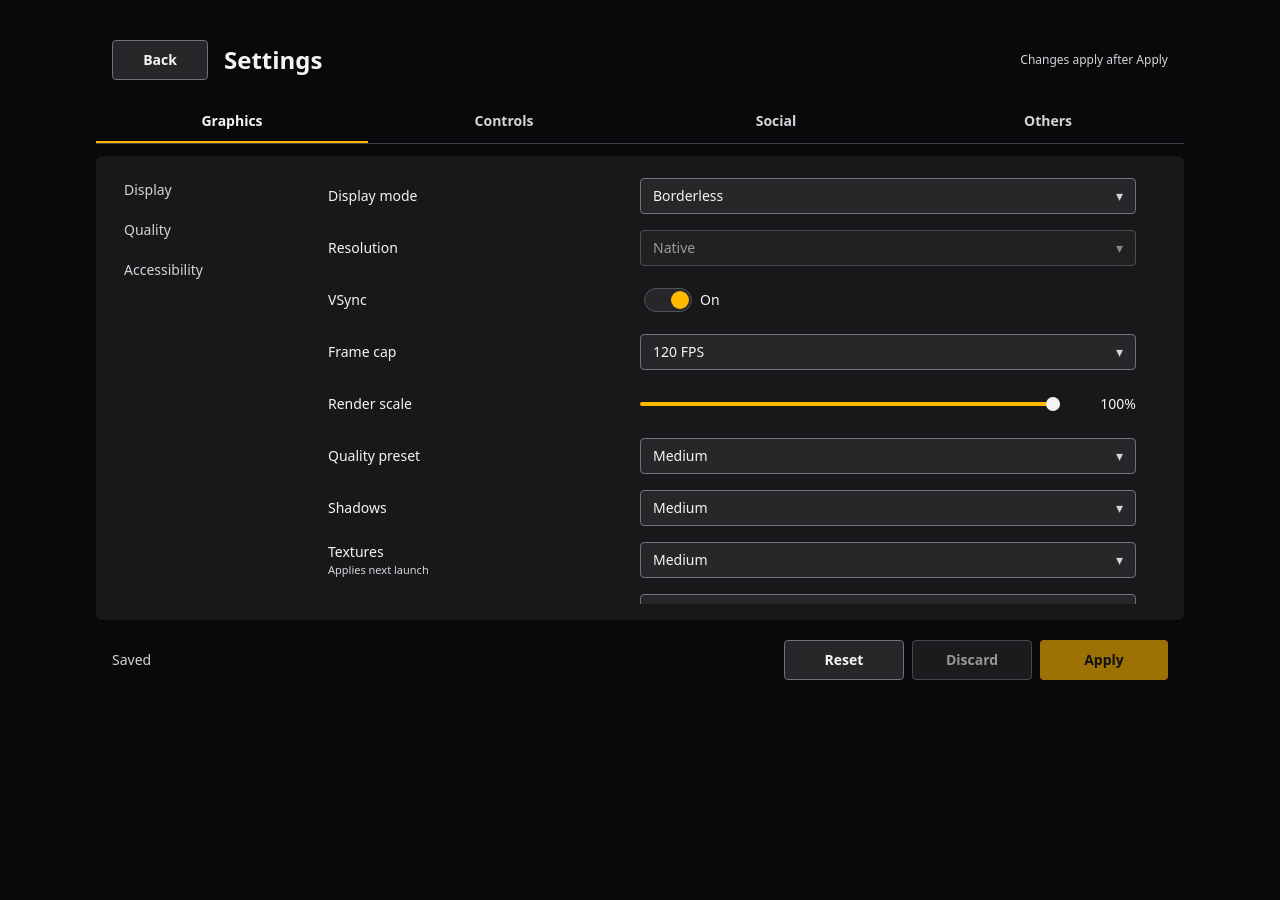
SettingsScreen › Back with a dirty draft asks first
The width and height of the screenshot is (1280, 900).
Later steps or results of the test are not shown.
Click the switch named "VSync" at (686, 300), box [640, 282, 732, 318]
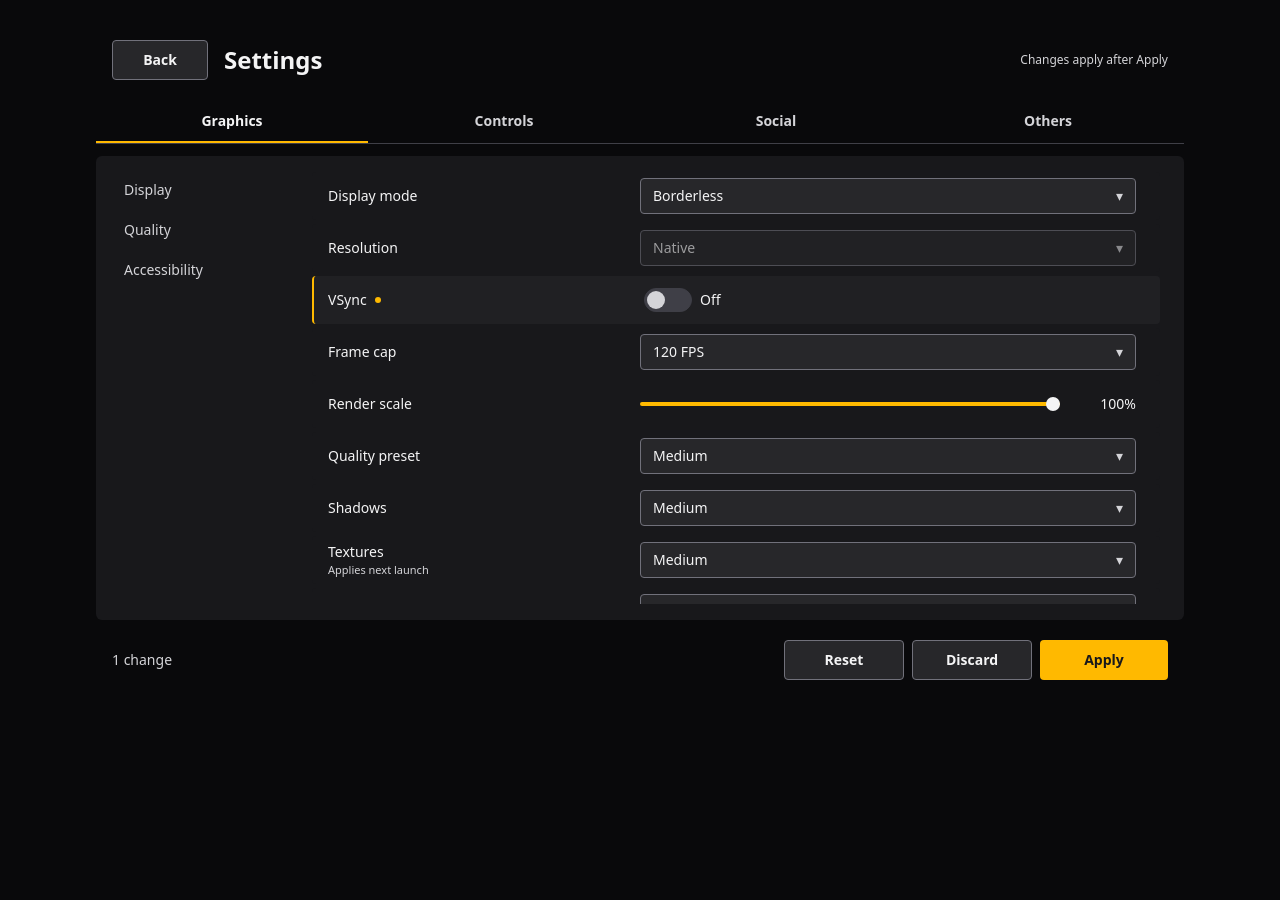
Click the button "Back" at (160, 60), box [112, 40, 208, 80]
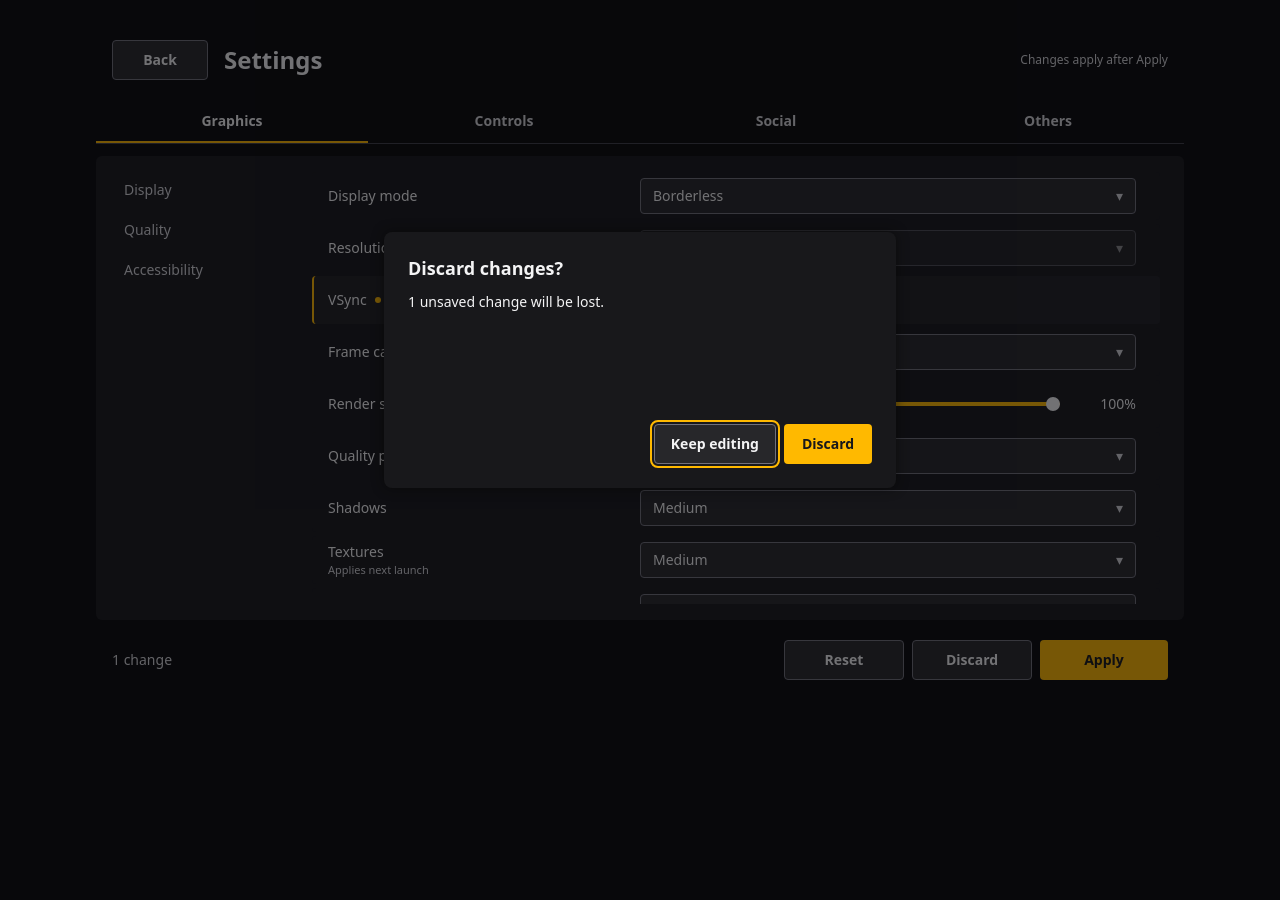
Click the button "Keep editing" at (715, 444), box [654, 424, 776, 464]
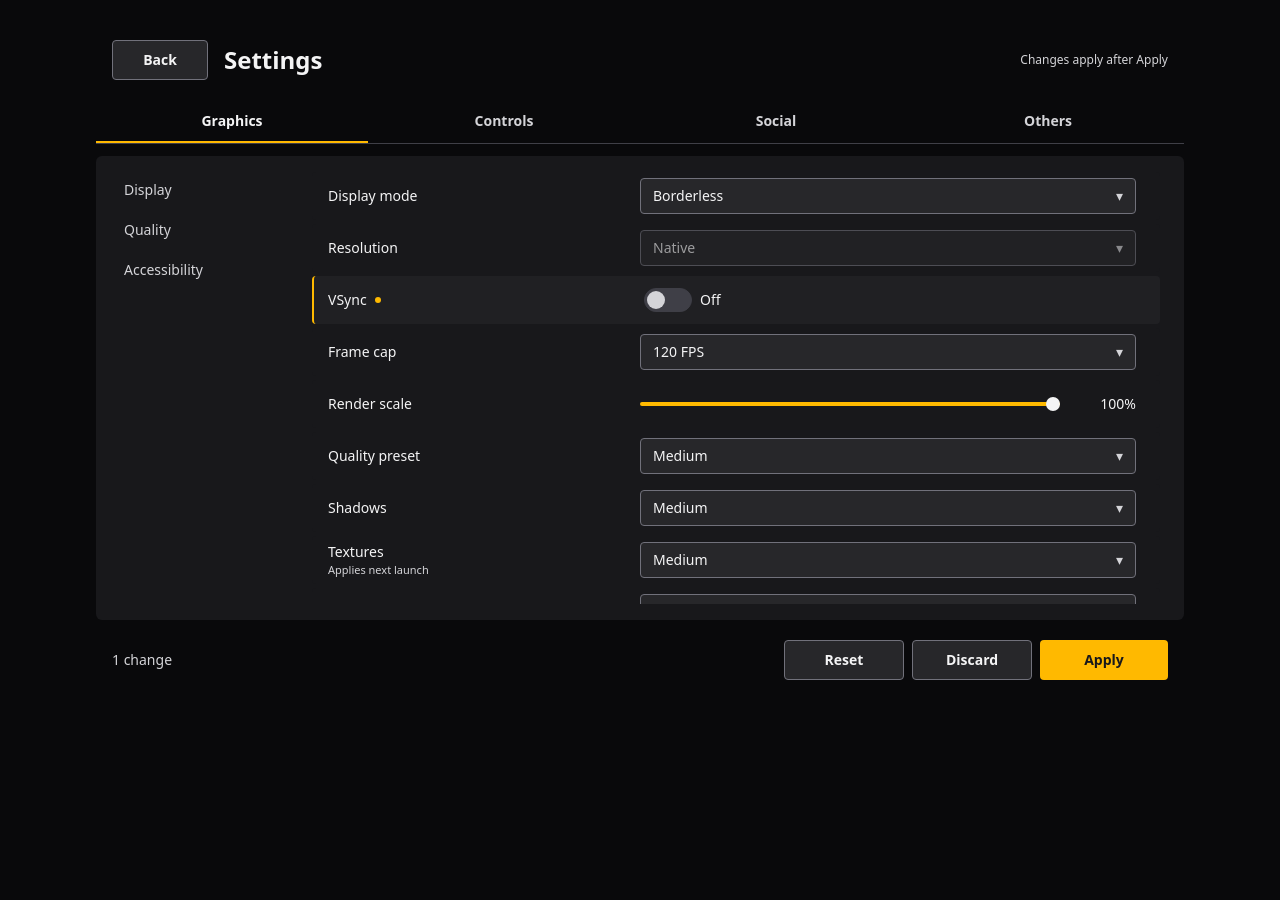
Expected: the dialog is gone
